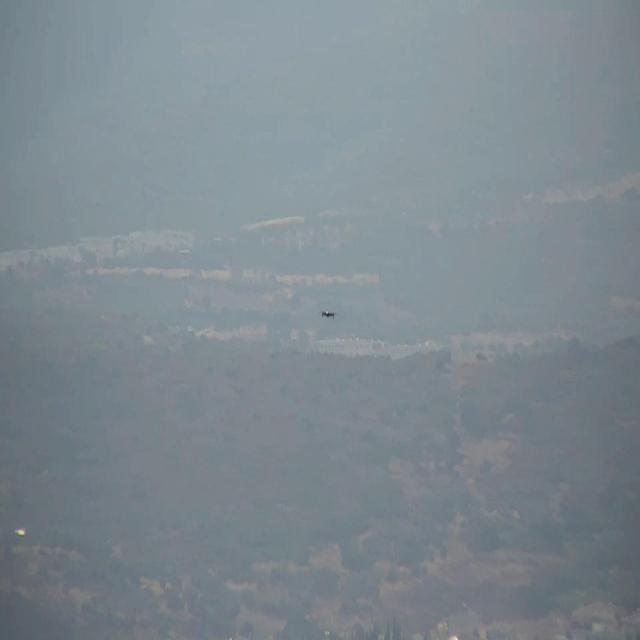drone: (317, 306, 339, 324)
